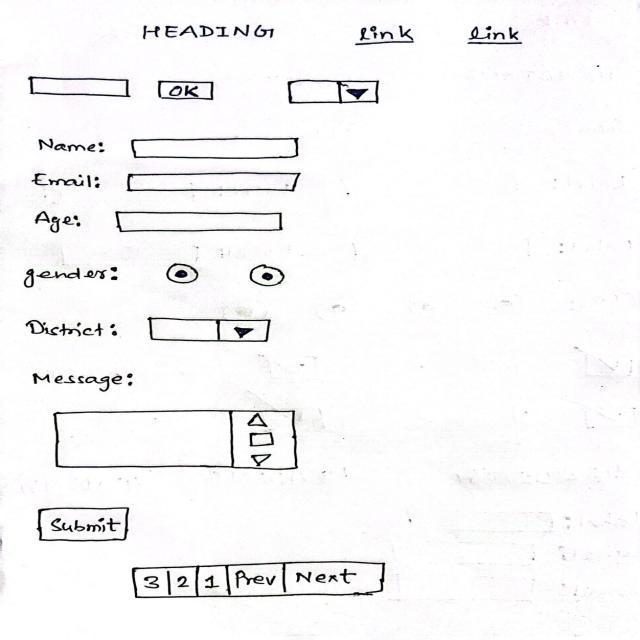textarea: (46, 406, 308, 474)
textbox: (104, 208, 289, 237), (127, 132, 306, 161), (117, 170, 306, 196), (23, 66, 137, 103)
